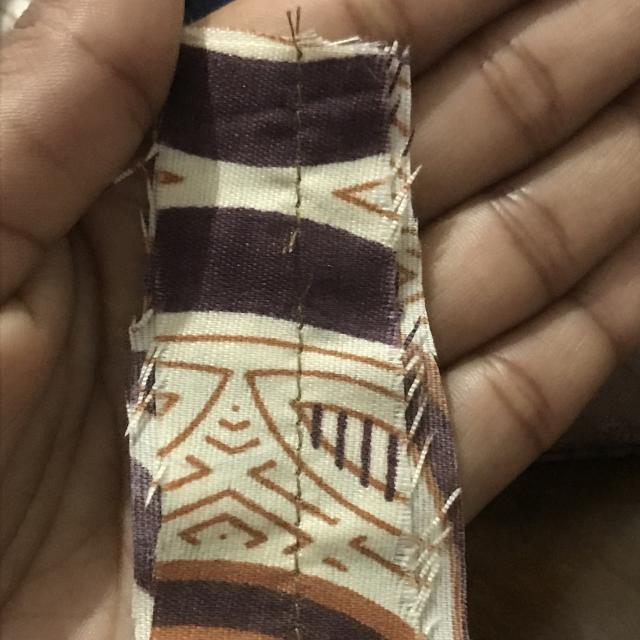broken: (258, 216, 324, 321)
good: (278, 373, 318, 566)
